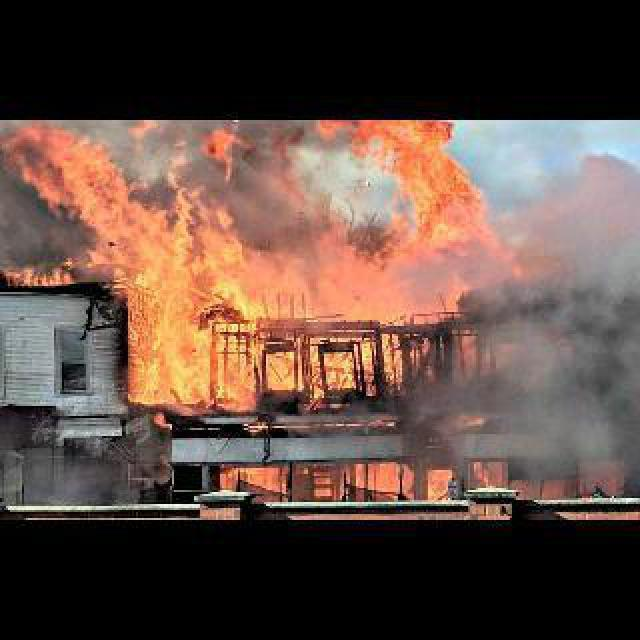Fire: (12, 120, 502, 412)
Smoke: (444, 152, 638, 488)
